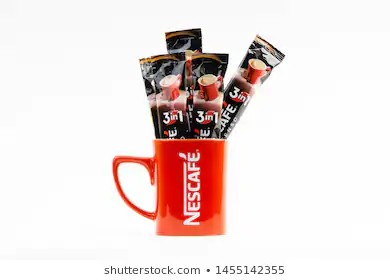nescafe-caffe: (218, 35, 287, 141), (141, 50, 190, 139), (190, 47, 224, 136)
nescafe-mug: (107, 141, 228, 237)
